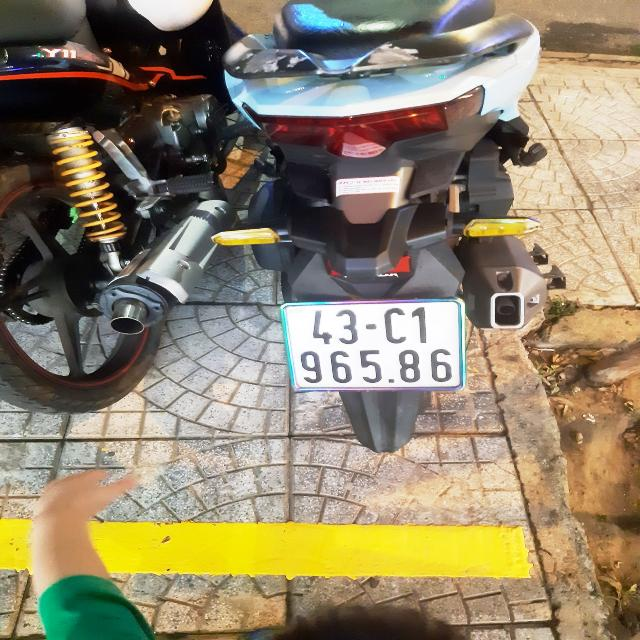license_plate: (286, 302, 462, 391)
